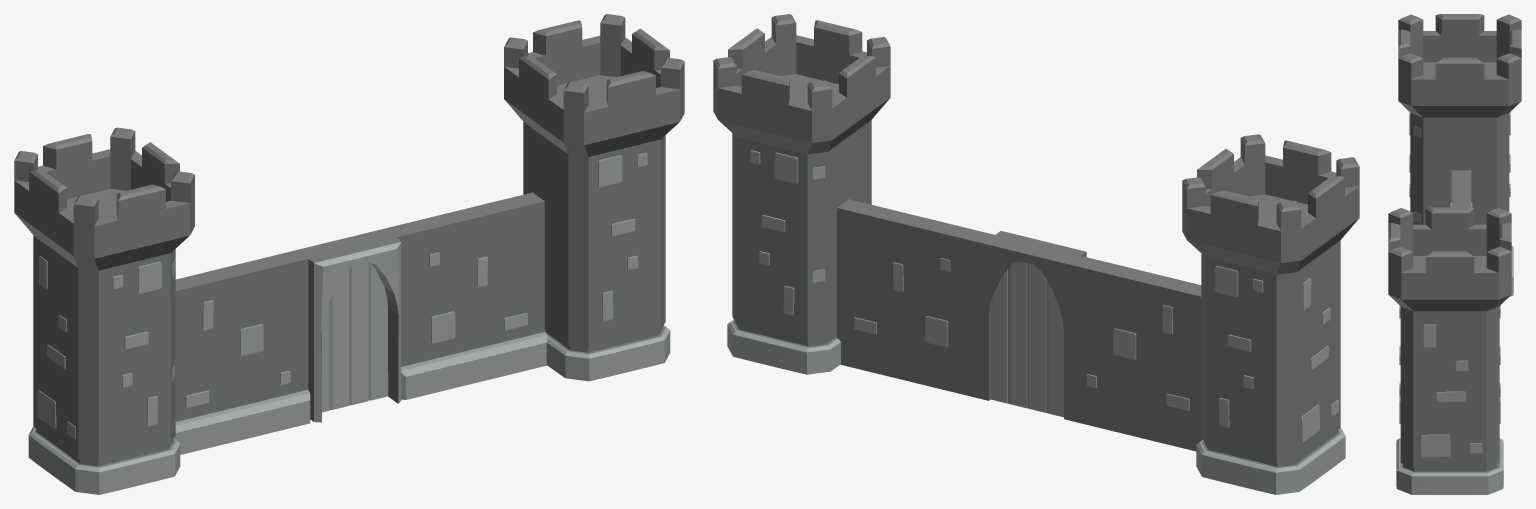
Rendered from Wall2.fbx.
3 renders of one model, left to right at view 1: azimuth 30°, elevation 25°; view 2: azimuth 150°, elevation 25°; view 3: azimuth 270°, elevation 25°, orthographic. The views are drawn at different scales.
Parts seen in each view (by area): view 1: Wall2; view 2: Wall2; view 3: Wall2.
Part boxes in pixels (x1,y1,x2,y2): Wall2: (14, 14, 684, 494); Wall2: (713, 14, 1359, 494); Wall2: (1388, 14, 1521, 494).
Bounding box in the file's own units: 1670 × 785 × 389.
